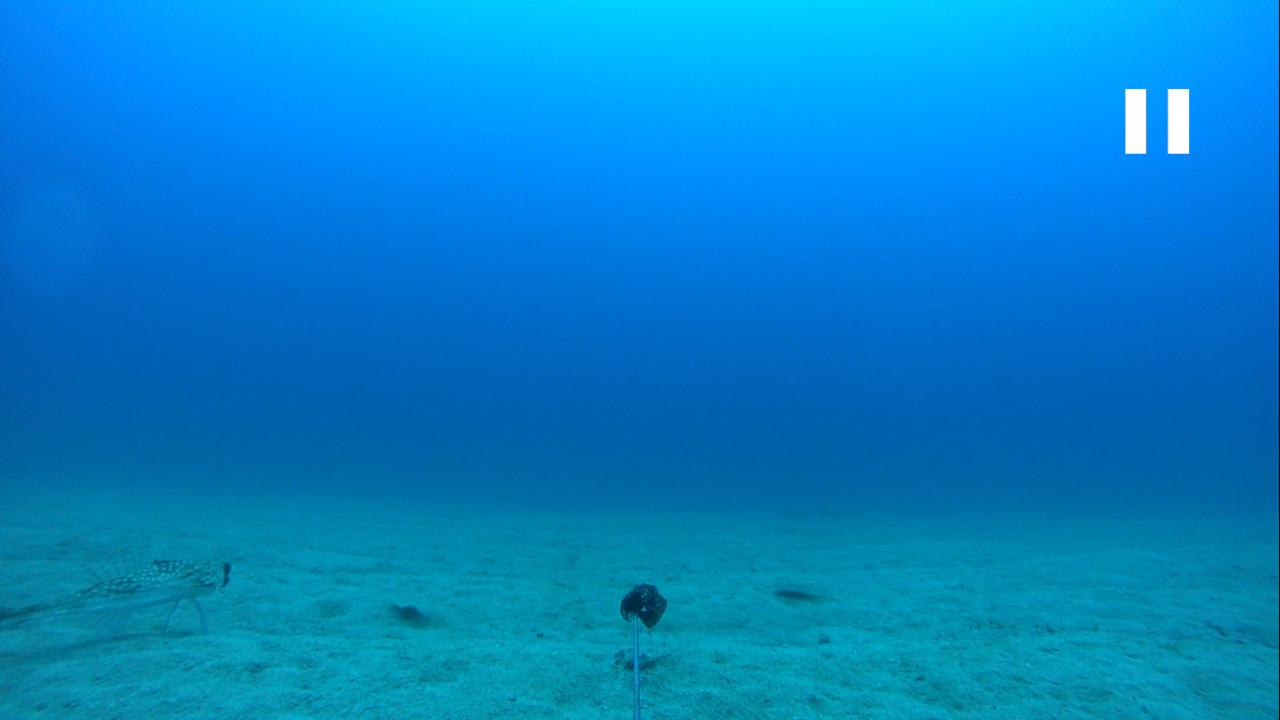bothus: (764, 574, 826, 596), (388, 595, 433, 619)
dactylopterus: (6, 538, 231, 636)
